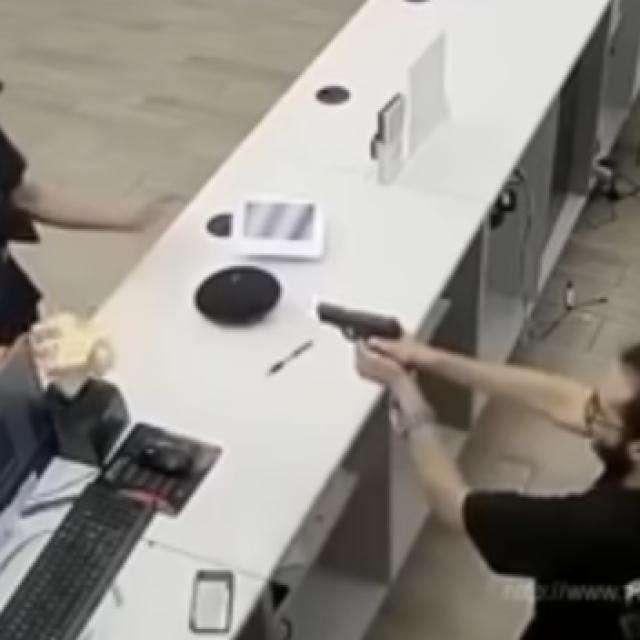FPistol: (313, 296, 406, 372)
